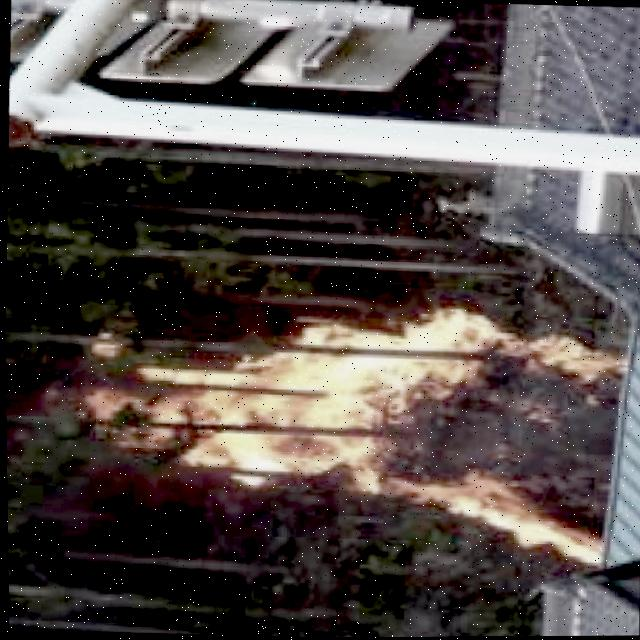Fire: (82, 295, 633, 556)
